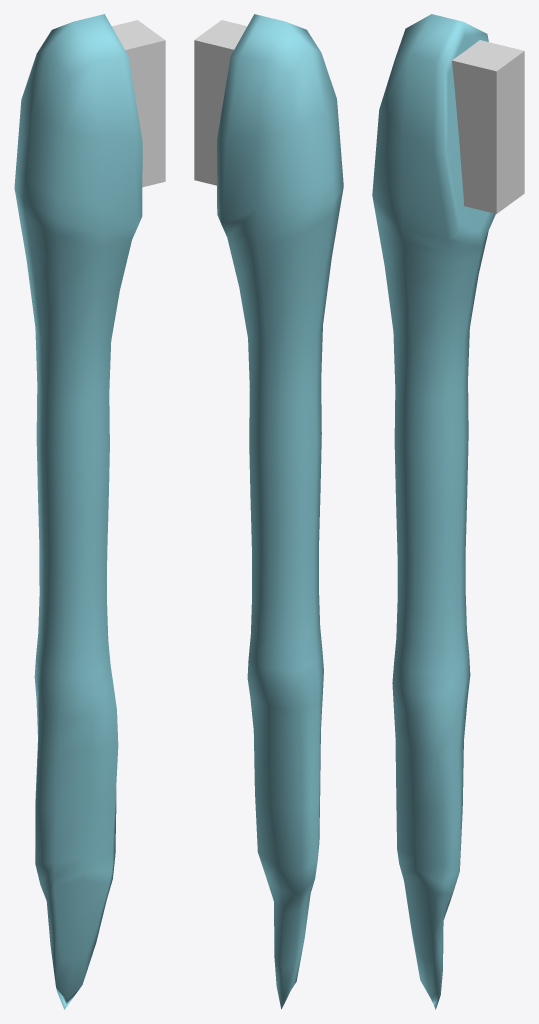
File: toothbrushShiv.fbx
The picture shows the model from 3 angles, left to right: view 1: azimuth 30°, elevation 25°; view 2: azimuth 150°, elevation 25°; view 3: azimuth 330°, elevation 25°; orthographic projection.
Parts seen in each view (by area): view 1: pCube3; view 2: pCube3; view 3: pCube3.
Boxes of the visible parts, x1,y1,x2,y2 form: pCube3: (14,14,165,1009); pCube3: (194,14,343,1009); pCube3: (372,14,524,1009).
Size of the model in its own units: 1.29 by 9.53 by 1.
